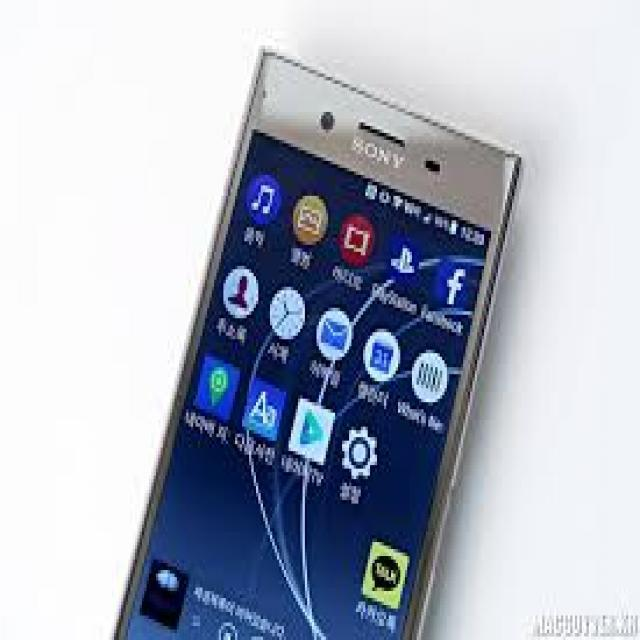Phone: (107, 47, 528, 640)
